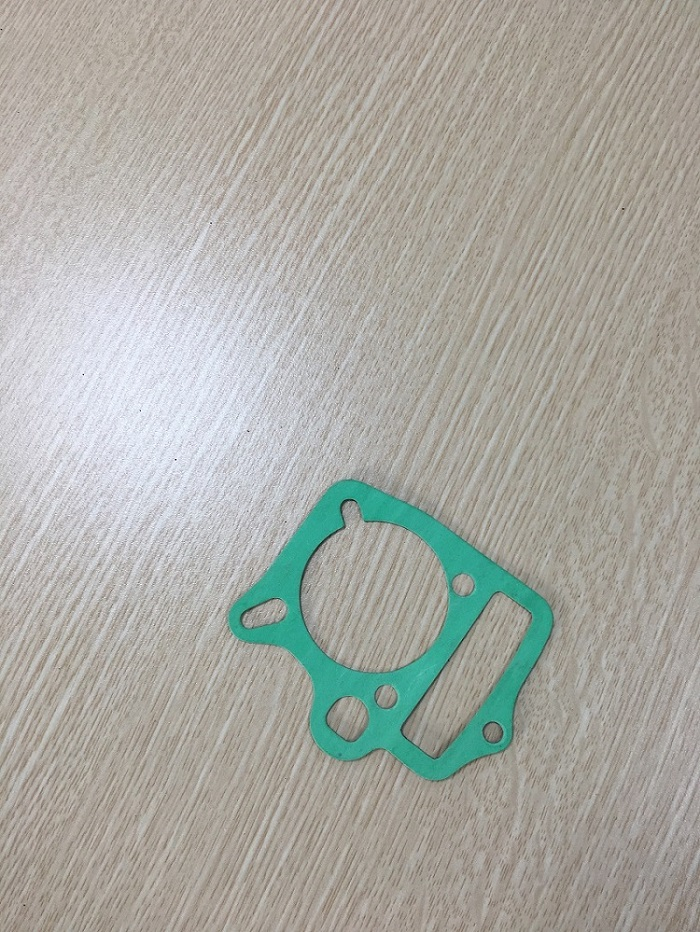circle 1: (288, 482, 460, 685)
circle 2: (316, 686, 373, 764)
circle 3: (229, 588, 301, 636)
circle 4: (443, 561, 484, 602)
circle 5: (473, 714, 520, 764)
circle 6: (398, 579, 543, 768)
object: (158, 448, 613, 862)
